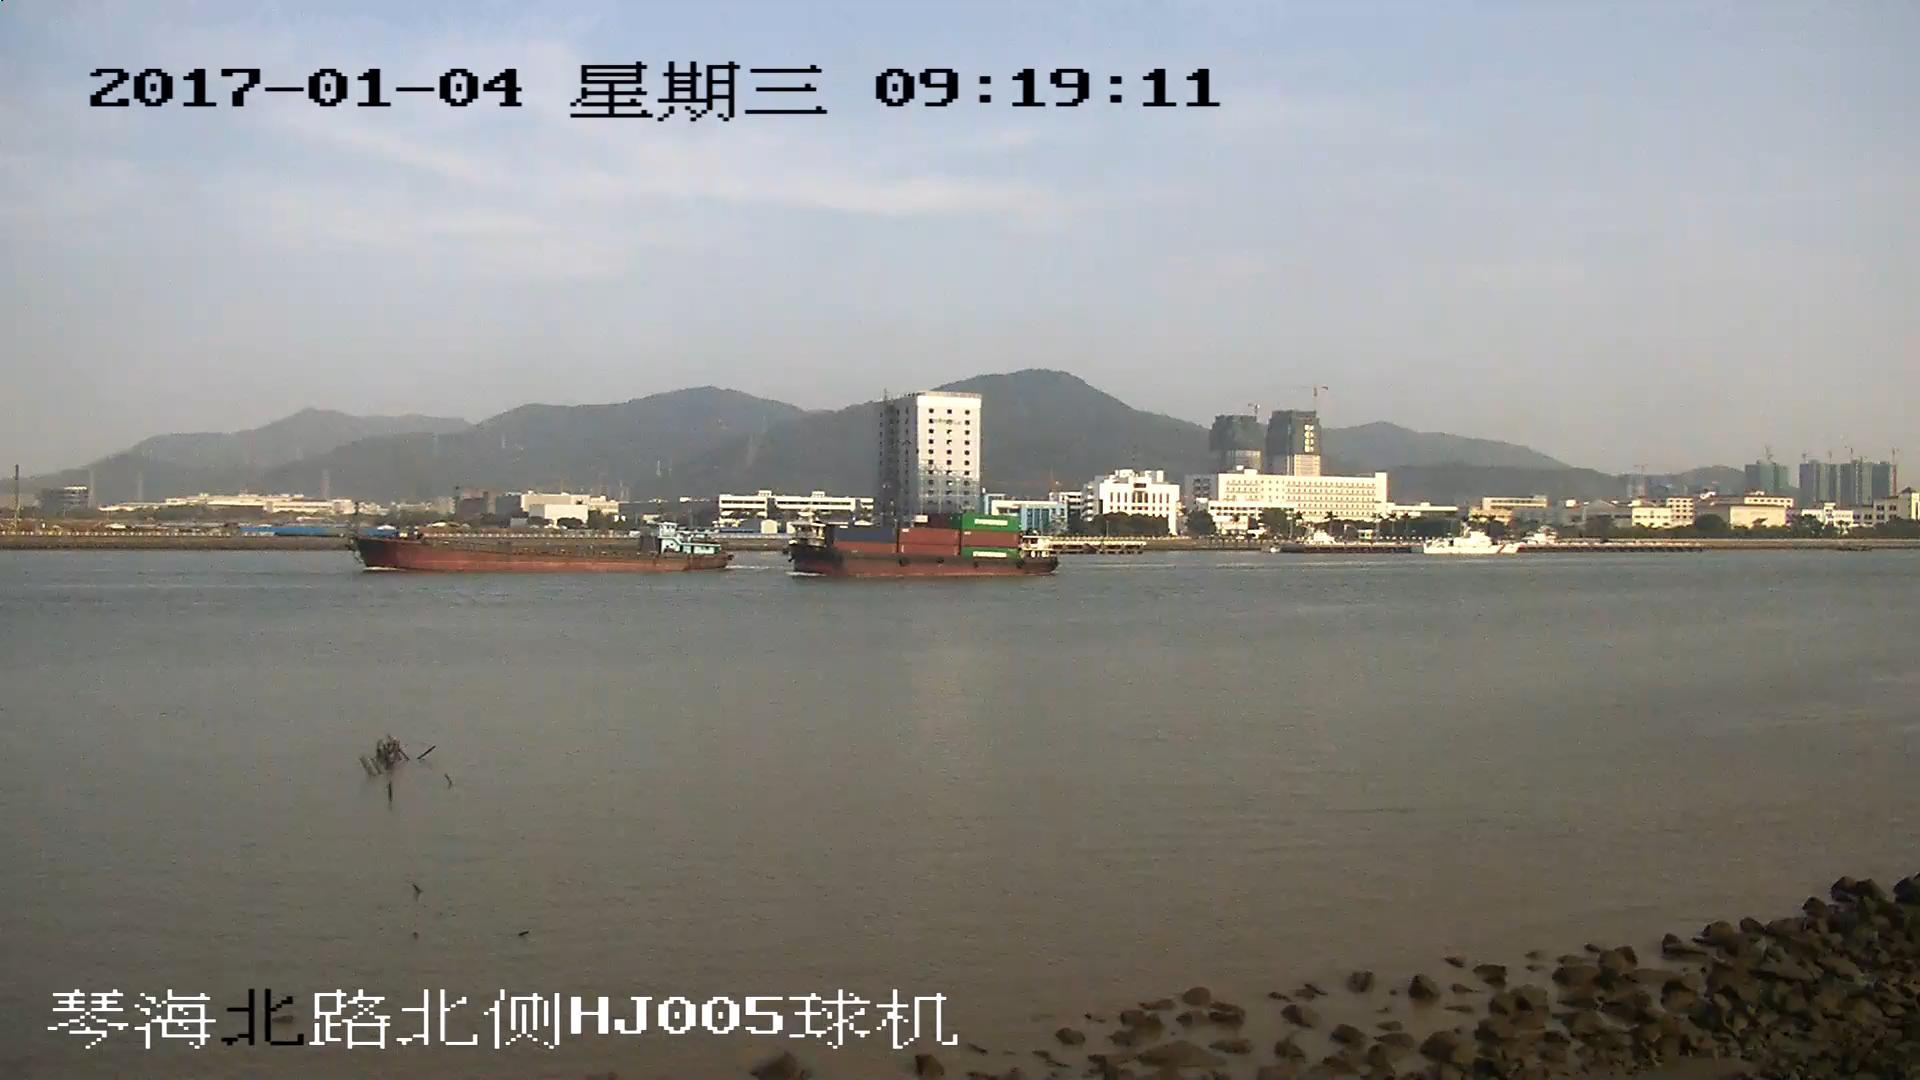Ship: (353, 520, 735, 571), (790, 516, 1059, 578)
